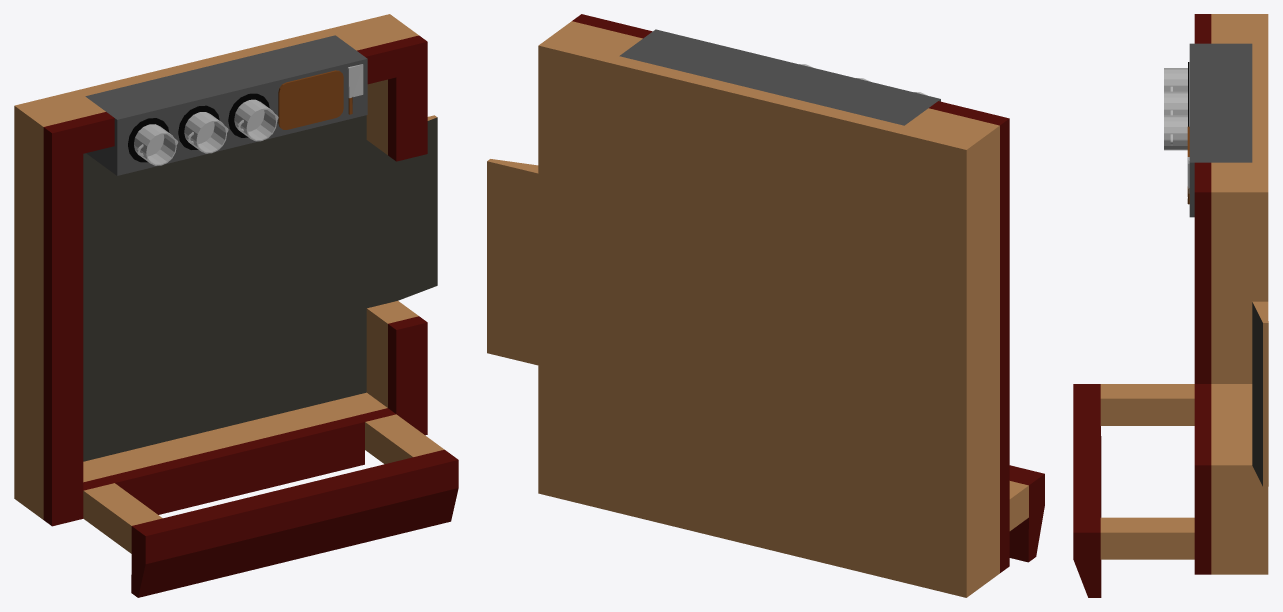
The model's file is kitchen.fbx.
3 views of the same model, side by side, from view 1: azimuth 30°, elevation 25°; view 2: azimuth 150°, elevation 25°; view 3: azimuth 270°, elevation 25° (orthographic). The views are drawn at different scales.
Parts seen in each view (by area): view 1: Cube.001, Cube.002, Plane.005, Plane.003, Plane.001, Cube.003; view 2: Cube.001; view 3: Cube.001, Plane.005, Plane.003, Plane.001.
Part boxes in pixels (x1,y1,x2,y2): Cube.001: (14,14,458,597); Cube.002: (278,70,343,129); Plane.005: (234,99,278,141); Plane.003: (184,112,228,153); Plane.001: (134,124,178,165); Cube.003: (347,64,363,114); Cube.001: (487,14,1044,597); Cube.001: (1073,14,1268,597); Plane.005: (1164,115,1187,150); Plane.003: (1164,91,1187,115); Plane.001: (1164,68,1187,91).
Size of the model in its own units: 1164 by 1143 by 481.
